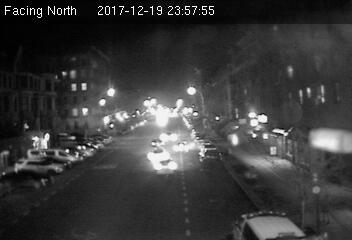car: (154, 159, 177, 175), (172, 141, 190, 155)
police: (224, 205, 304, 240)
